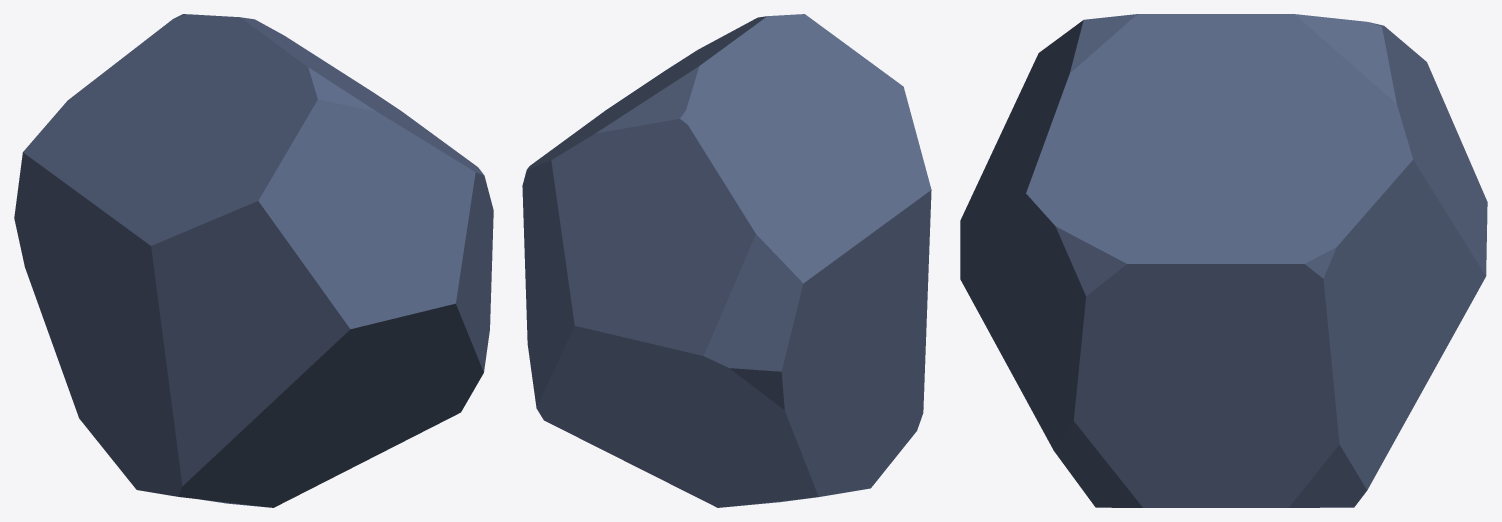
Rendered from Rock08.fbx.
3 renders of one model, left to right at view 1: azimuth 30°, elevation 25°; view 2: azimuth 150°, elevation 25°; view 3: azimuth 270°, elevation 25°, orthographic. The views are drawn at different scales.
Parts seen in each view (by area): view 1: Rock_08; view 2: Rock_08; view 3: Rock_08.
Boxes of the visible parts, left/top/right/bottom form: Rock_08: left=14, top=14, right=493, bottom=507; Rock_08: left=522, top=14, right=931, bottom=507; Rock_08: left=960, top=14, right=1487, bottom=507.
Size of the model in its own units: 117 by 154 by 143.
